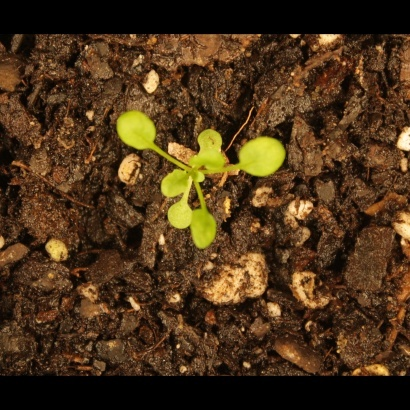leaf: (237, 133, 292, 180), (115, 108, 159, 157), (188, 204, 222, 254), (167, 194, 196, 233), (161, 166, 192, 201), (186, 148, 227, 174), (195, 124, 225, 155)
